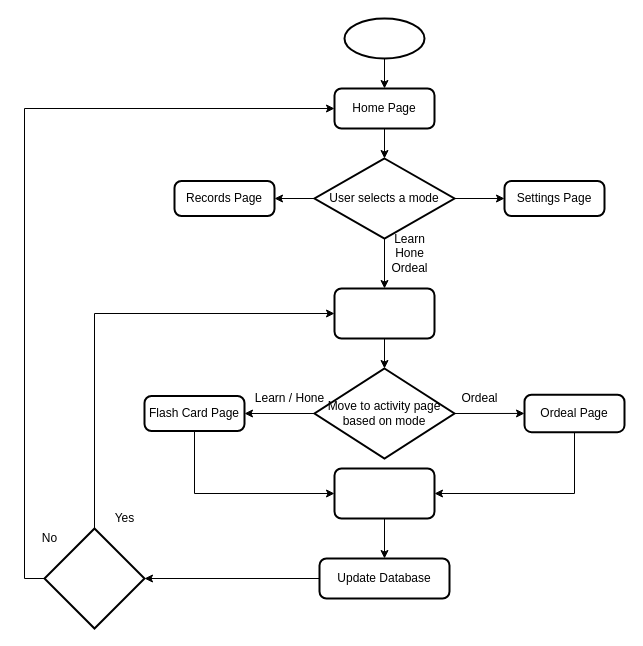
The diagram is 643 pixels wide and 646 high, and some of its shapes have lost their labels. Each missing label, with the box of its shape:
Again but with new cards?: (43, 527, 145, 629)
App Start: (343, 17, 425, 59)
Flash Card Menu Page: (333, 287, 435, 339)
Went through all cards: (333, 467, 435, 519)
